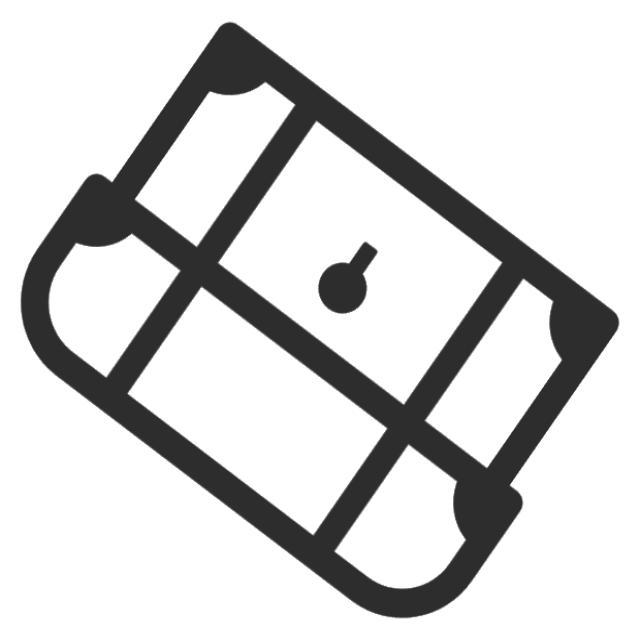treasure_box: (11, 19, 628, 629)
